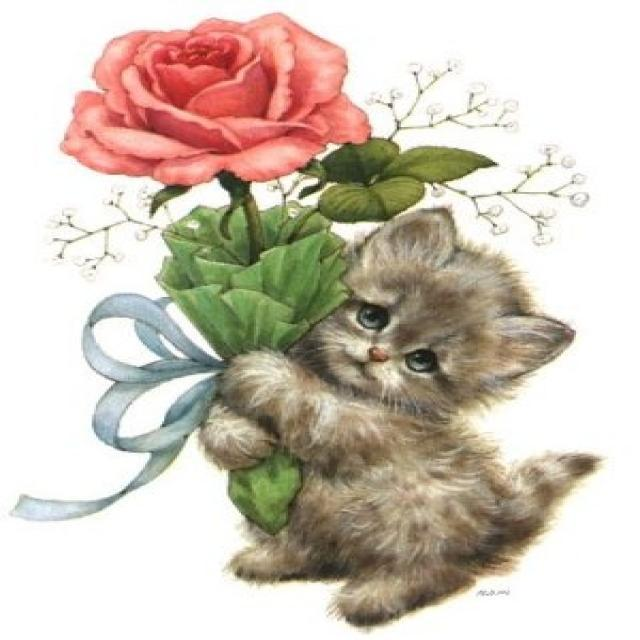Cats: (173, 200, 632, 640)
